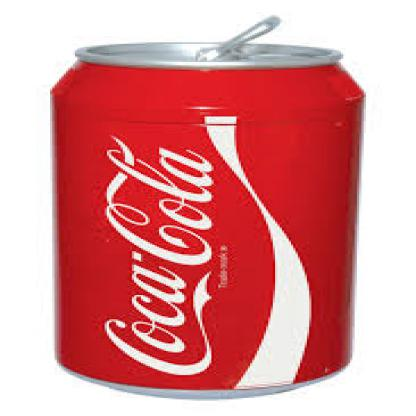METAL: (50, 15, 364, 395)
